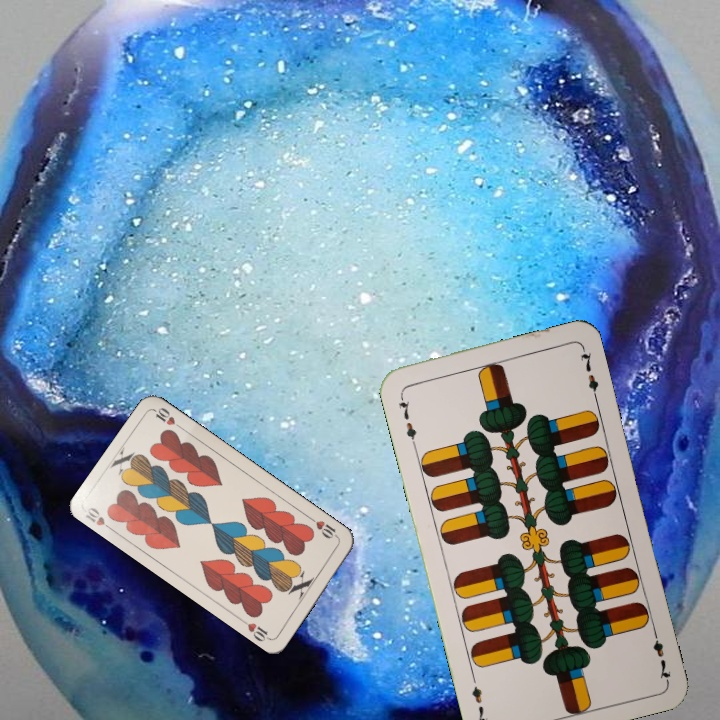E7: (649, 625, 674, 684), (394, 390, 419, 448)
H10: (81, 503, 117, 534), (306, 513, 342, 542)
